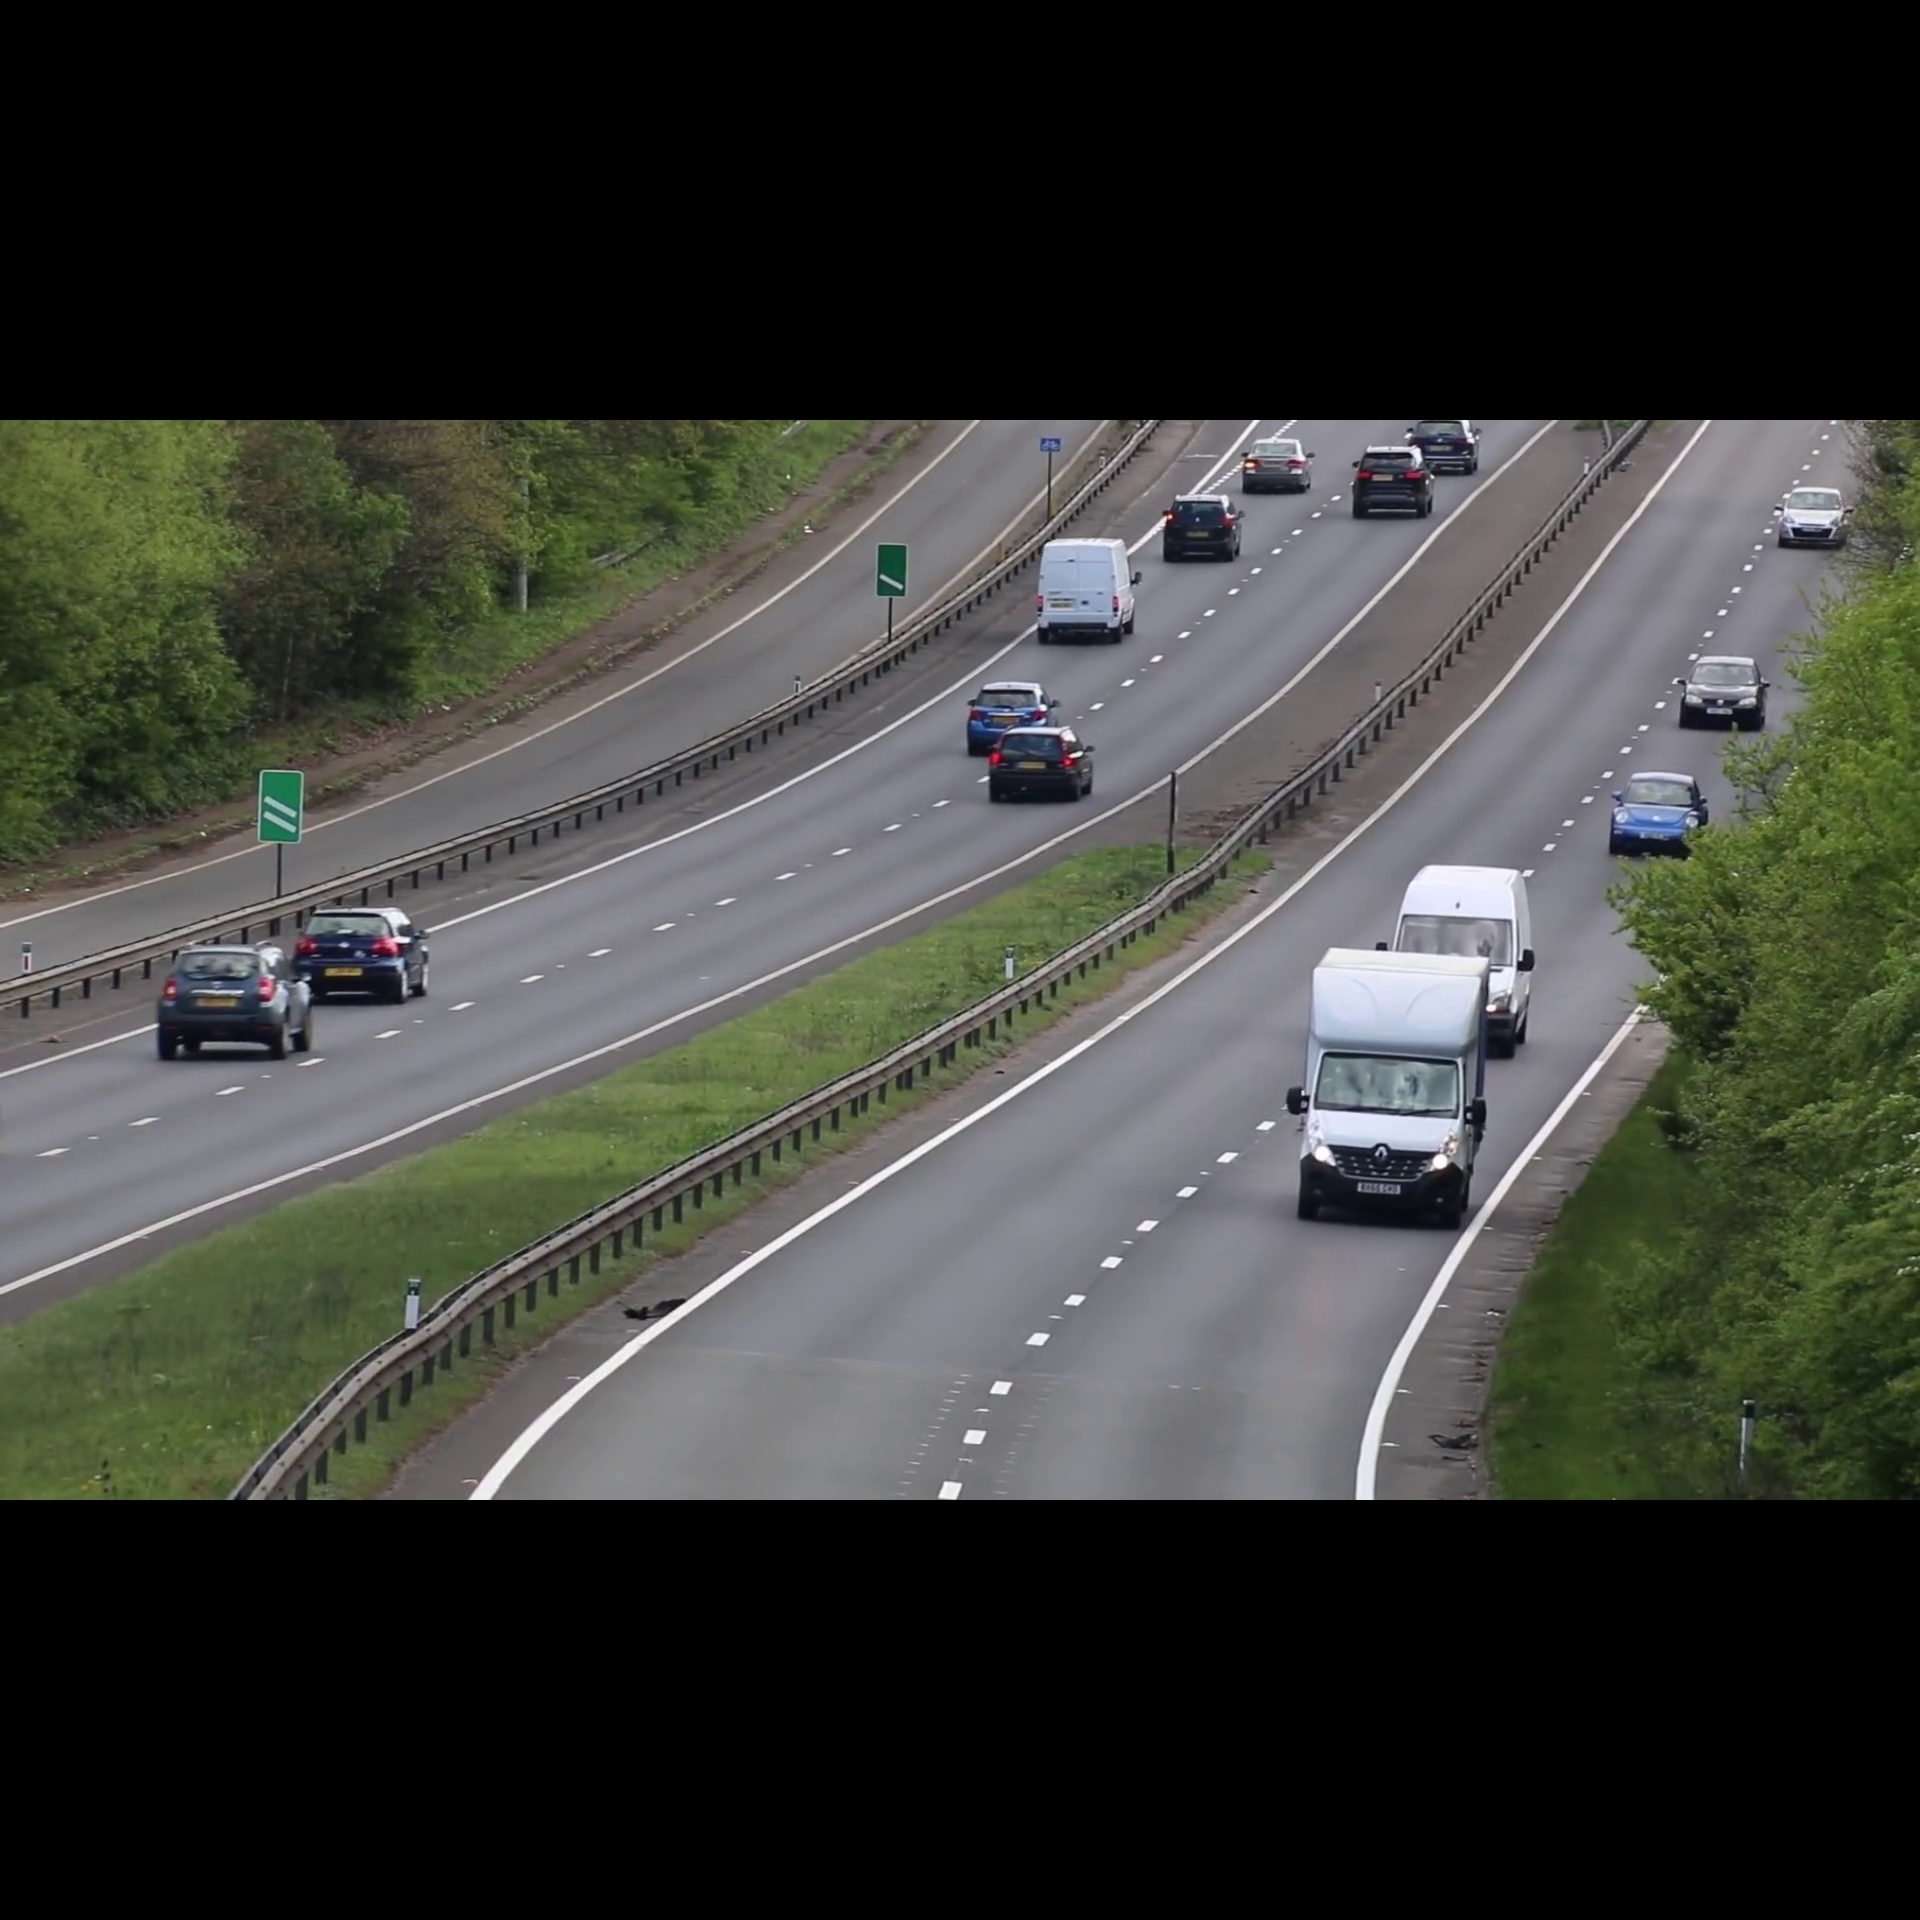vehicle: (1292, 944, 1487, 1231), (156, 944, 315, 1064), (290, 904, 434, 1002), (1393, 862, 1544, 955), (1030, 535, 1139, 649), (1607, 767, 1711, 863), (992, 726, 1097, 804), (1674, 652, 1772, 733), (1350, 447, 1435, 527), (1769, 484, 1860, 552), (1160, 489, 1245, 563), (964, 680, 1058, 742), (1236, 433, 1313, 496), (1403, 420, 1480, 475)
